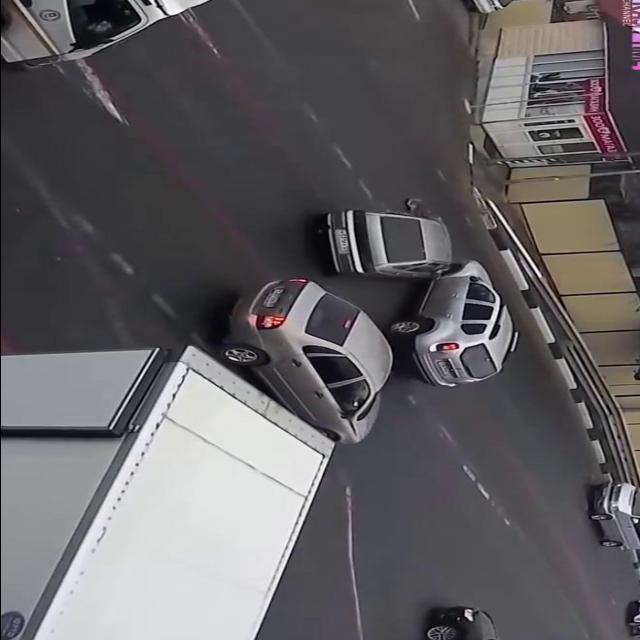accident: (295, 188, 521, 400)
